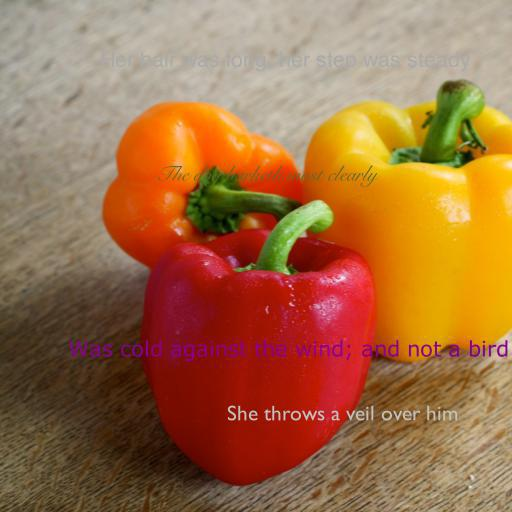Big Caslon: (99, 51, 471, 72)
Gill Sans: (226, 405, 458, 421)
Snell Roundhand: (155, 165, 377, 188)
Verdana: (67, 340, 509, 361)
